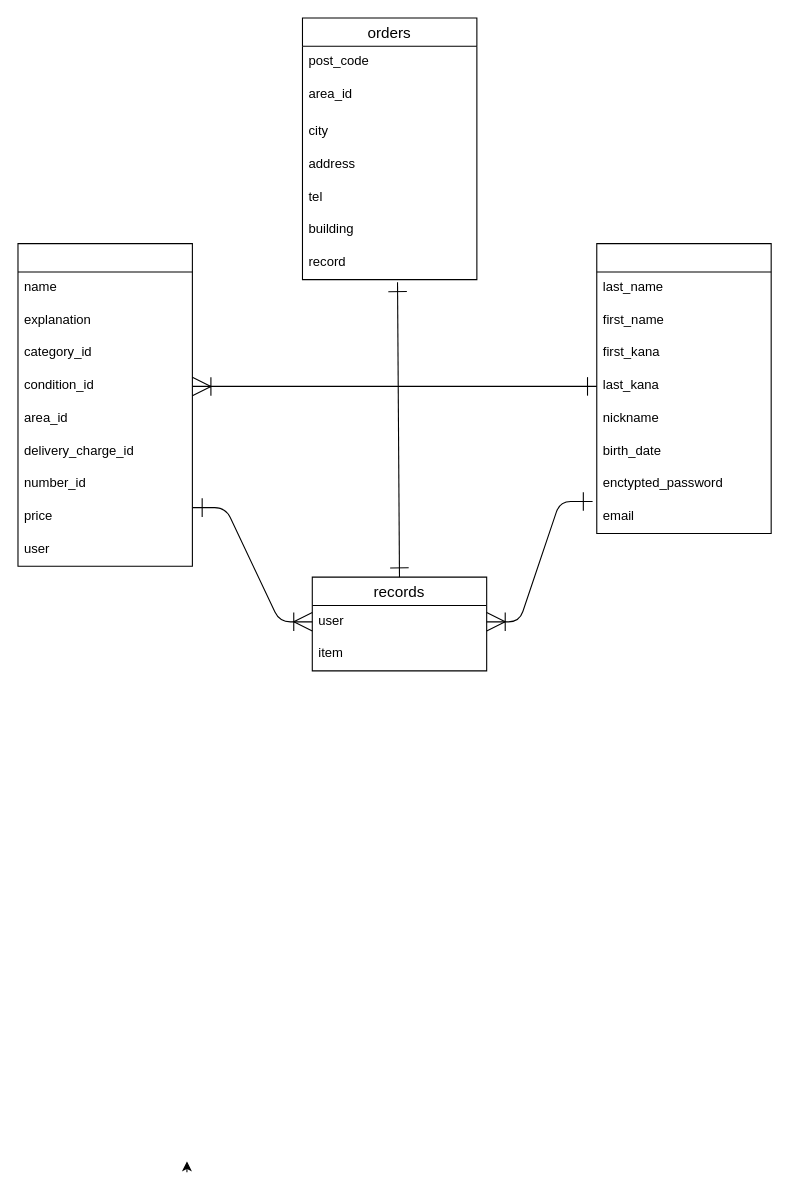
This 789x1190 diagram has some shape labels left out. The box of each missing label's shape, as (x1, y1, x2, y2) in pixels:
items: (17, 243, 192, 566)
users: (596, 243, 771, 534)
